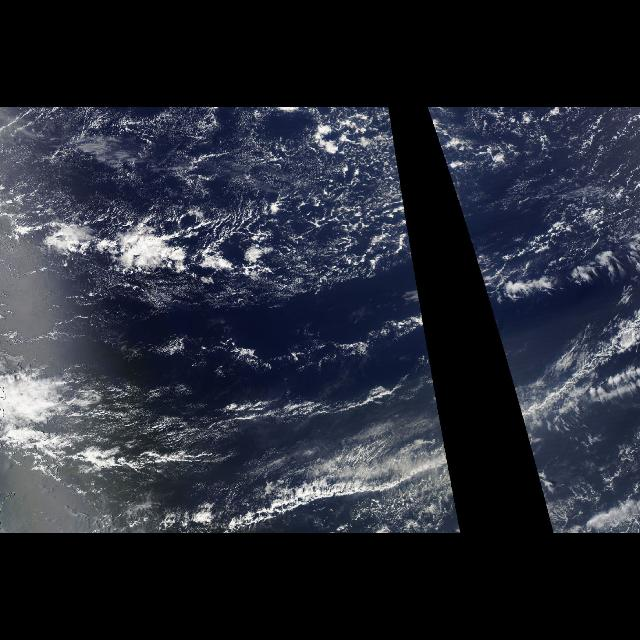Fish: (16, 188, 462, 534), (490, 312, 640, 534)
Gravel: (4, 107, 414, 310)
Sugar: (4, 110, 402, 192)
